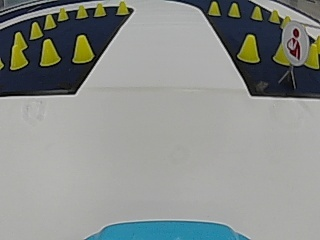cone: (237, 34, 260, 63), (72, 34, 94, 63), (10, 34, 27, 68), (39, 39, 60, 66), (304, 40, 319, 69), (272, 41, 290, 64), (30, 21, 43, 38), (93, 3, 106, 17), (115, 1, 128, 15), (44, 14, 57, 28), (75, 5, 88, 19), (228, 3, 240, 17), (208, 2, 220, 15), (251, 6, 262, 20), (57, 7, 68, 20), (269, 9, 279, 22)
patient: (284, 20, 307, 63)
